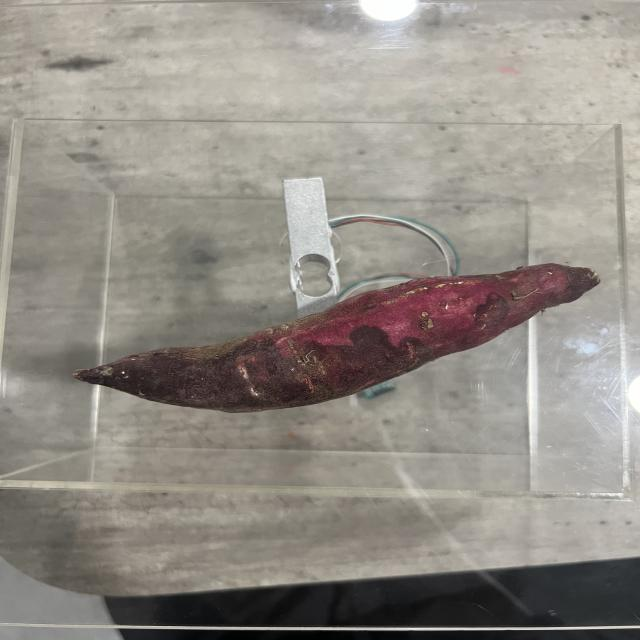sweet potato: (81, 258, 601, 412)
